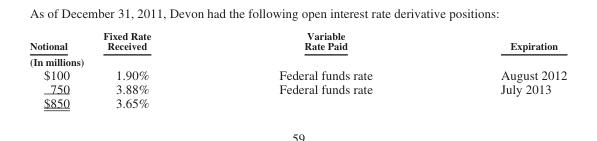table: (28, 29, 566, 110)
table column: (214, 29, 435, 110), (435, 29, 566, 110), (85, 29, 214, 110), (28, 29, 85, 110)
table column header: (28, 29, 566, 53)
table projected row header: (28, 53, 566, 67)
table row: (28, 29, 566, 53), (28, 95, 566, 110), (28, 53, 566, 67), (28, 67, 566, 81), (28, 81, 566, 95)
